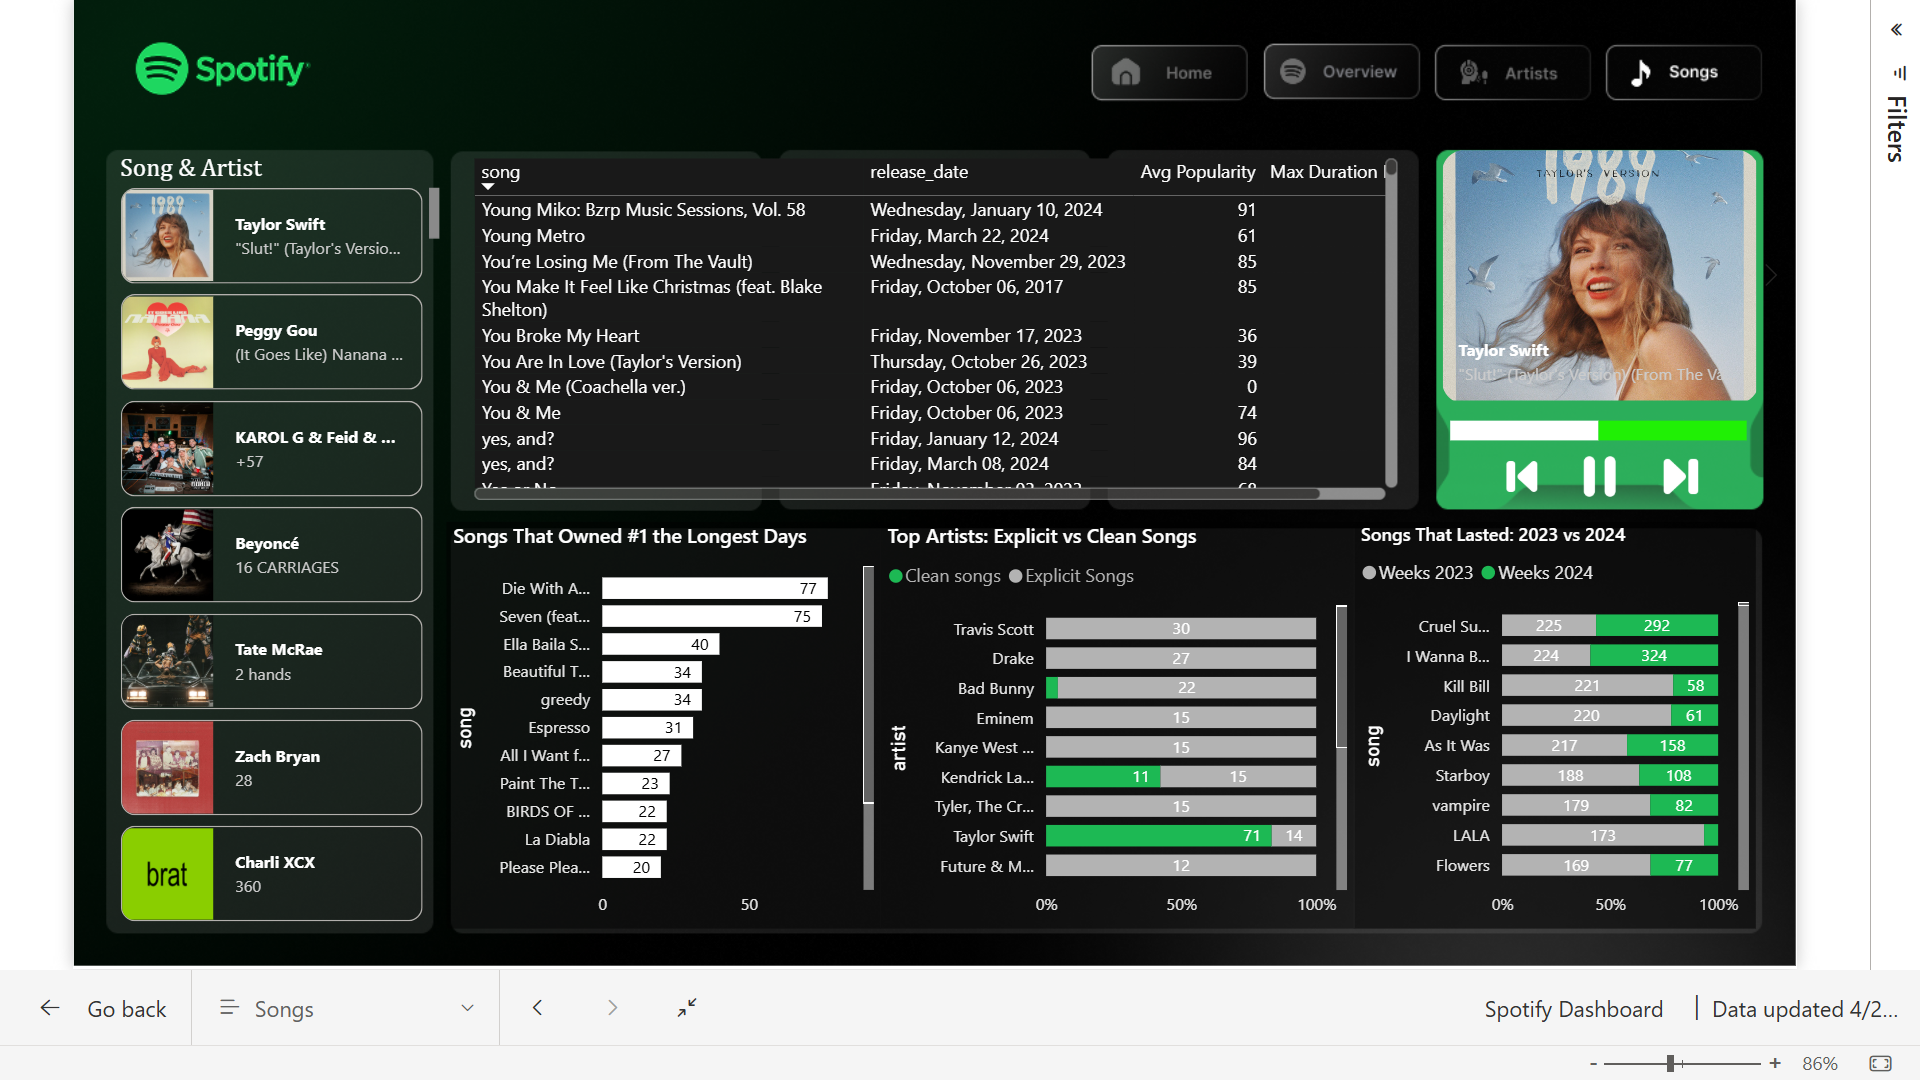

What the dashboard file says about the page in this screenshot:
{"tool":"powerbi","page":{"name":"Songs","canvas":[1280,720],"ordinal":3},"visuals":[{"type":"actionButton","box":[747.8,21.6,109.4,61.3],"z":0},{"type":"actionButton","box":[873.8,34.8,116.1,41.5],"z":1000},{"type":"actionButton","box":[1001.4,34.9,97.8,41.5],"z":2000},{"type":"actionButton","box":[1127.4,38.2,116.1,44.8],"z":3000},{"type":"advancedSlicerVisual","title":"Song & Artist","fields":{"Values":["Top-50-world.song"]},"box":[991.5,106.1,285.2,199],"z":4000},{"type":"hundredPercentStackedBarChart","fields":{"Y":["_measure.Avg Popularity Explicit","Avg(Top-50-world.popularity)"]},"box":[1018.1,280.2,230.5,73],"z":5000},{"type":"image","box":[1114.2,338.8,39.8,29.8],"z":6000},{"type":"image","box":[1062.8,338.8,26.5,29.8],"z":7000},{"type":"image","box":[1173.9,338.8,39.8,29.8],"z":8000},{"type":"shape","box":[1001.5,106.1,275.2,273.6],"z":9000},{"type":"clusteredBarChart","title":"Songs That Owned #1 the Longest Days","fields":{"Category":["Top-50-world.song"],"Y":["_measure.Days at No1"]},"box":[277.7,388,322.6,302.2],"z":10000},{"type":"hundredPercentStackedBarChart","title":"Top Artists: Explicit vs Clean Songs","fields":{"Category":["Top-50-world.artist"],"Y":["_measure.Non Explicit Songs1","_measure.Explicit Songs 1"]},"box":[600.3,388,351.2,302.2],"z":11000},{"type":"hundredPercentStackedBarChart","title":"Songs That Lasted: 2023 vs 2024","fields":{"Y":["_measure.Weeks 2023","_measure.Weeks 2024"],"Category":["Top-50-world.song"]},"box":[951.5,388,298.1,302.2],"z":12000},{"type":"advancedSlicerVisual","title":"Song & Artist","fields":{"Values":["Top-50-world.song"]},"box":[29.8,112.8,247.1,578.7],"z":13000},{"type":"tableEx","fields":{"Values":["Top-50-world.song","Top-50-world.release_date","_measure.Avg Popularity","_measure.Max Duration Minutes"]},"box":[292,112.3,696.3,263.4],"z":14000}]}

Visuals, with their boxes on the page's 1280x720 design canvas (x1, y1, x2, y2). These are canvas units, not pixel positions in the 1920x1080 screenshot, which may show the page scaled, cropped or inside an application window:
actionButton: bbox(748, 22, 857, 83)
actionButton: bbox(874, 35, 990, 76)
actionButton: bbox(1001, 35, 1099, 76)
actionButton: bbox(1127, 38, 1244, 83)
"Song & Artist" advancedSlicerVisual: bbox(992, 106, 1277, 305)
hundredPercentStackedBarChart - _measure.Avg Popularity Explicit x Avg(Top-50-world.popularity): bbox(1018, 280, 1249, 353)
image: bbox(1114, 339, 1154, 369)
image: bbox(1063, 339, 1089, 369)
image: bbox(1174, 339, 1214, 369)
shape: bbox(1002, 106, 1277, 380)
"Songs That Owned #1 the Longest Days" clusteredBarChart: bbox(278, 388, 600, 690)
"Top Artists: Explicit vs Clean Songs" hundredPercentStackedBarChart: bbox(600, 388, 952, 690)
"Songs That Lasted: 2023 vs 2024" hundredPercentStackedBarChart: bbox(952, 388, 1250, 690)
"Song & Artist" advancedSlicerVisual: bbox(30, 113, 277, 692)
tableEx - Top-50-world.song x Top-50-world.release_date: bbox(292, 112, 988, 376)
